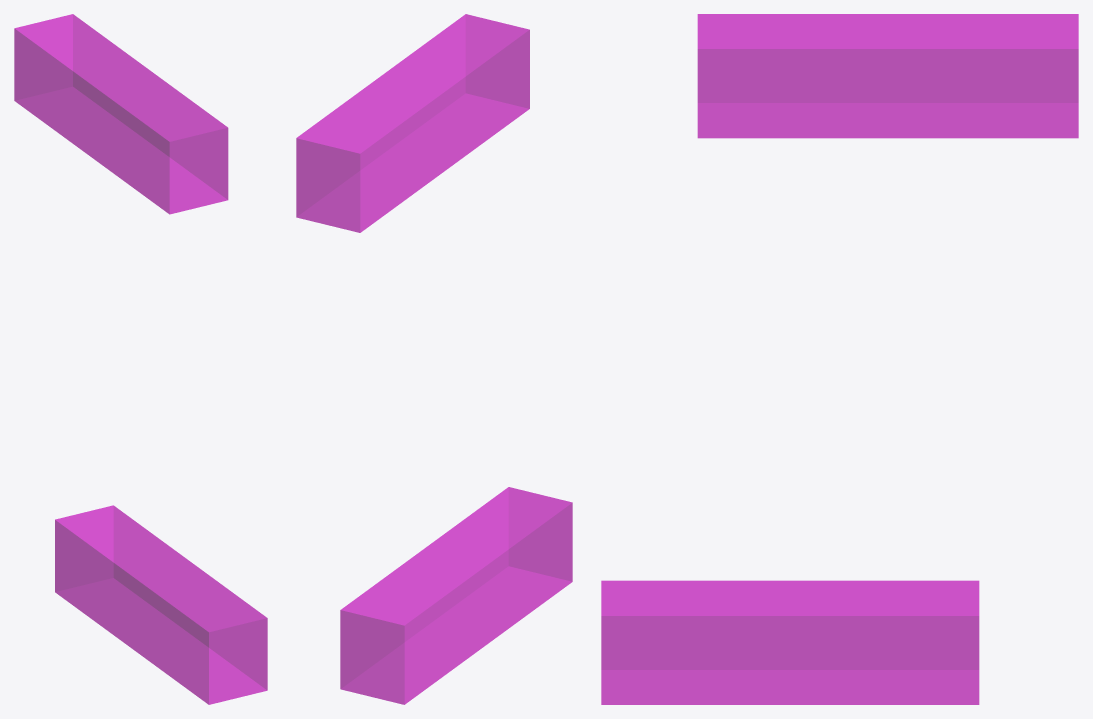
The model's file is SM_Veh_Ship_L_Rudder_02_Collision.fbx.
3 renders of one model, left to right at view 1: azimuth 30°, elevation 25°; view 2: azimuth 150°, elevation 25°; view 3: azimuth 270°, elevation 25°, orthographic. The views are drawn at different scales.
Visible parts, largest first — view 1: SM_Veh_Ship_L_Rudder_02_Collision; view 2: SM_Veh_Ship_L_Rudder_02_Collision; view 3: SM_Veh_Ship_L_Rudder_02_Collision.
Part boxes in pixels (x1=…): SM_Veh_Ship_L_Rudder_02_Collision: x1=14, y1=14, x2=267, y2=704; SM_Veh_Ship_L_Rudder_02_Collision: x1=296, y1=14, x2=572, y2=704; SM_Veh_Ship_L_Rudder_02_Collision: x1=601, y1=14, x2=1078, y2=704.
Size of the model in its own units: 25.35 by 221 by 146.
